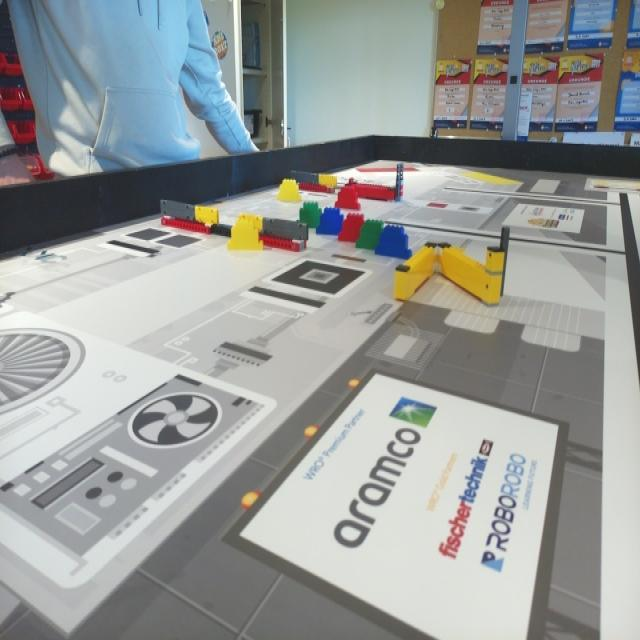blau: (378, 224, 409, 261), (318, 207, 343, 236)
gruen: (300, 202, 320, 229), (358, 223, 380, 247)
rot: (339, 213, 367, 240), (336, 185, 361, 210)
yellow: (226, 222, 264, 252), (278, 180, 299, 201)
